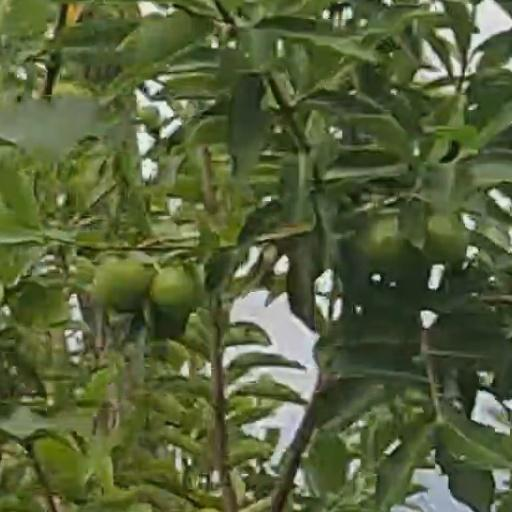acerola: (98, 261, 147, 304), (153, 267, 192, 315)
